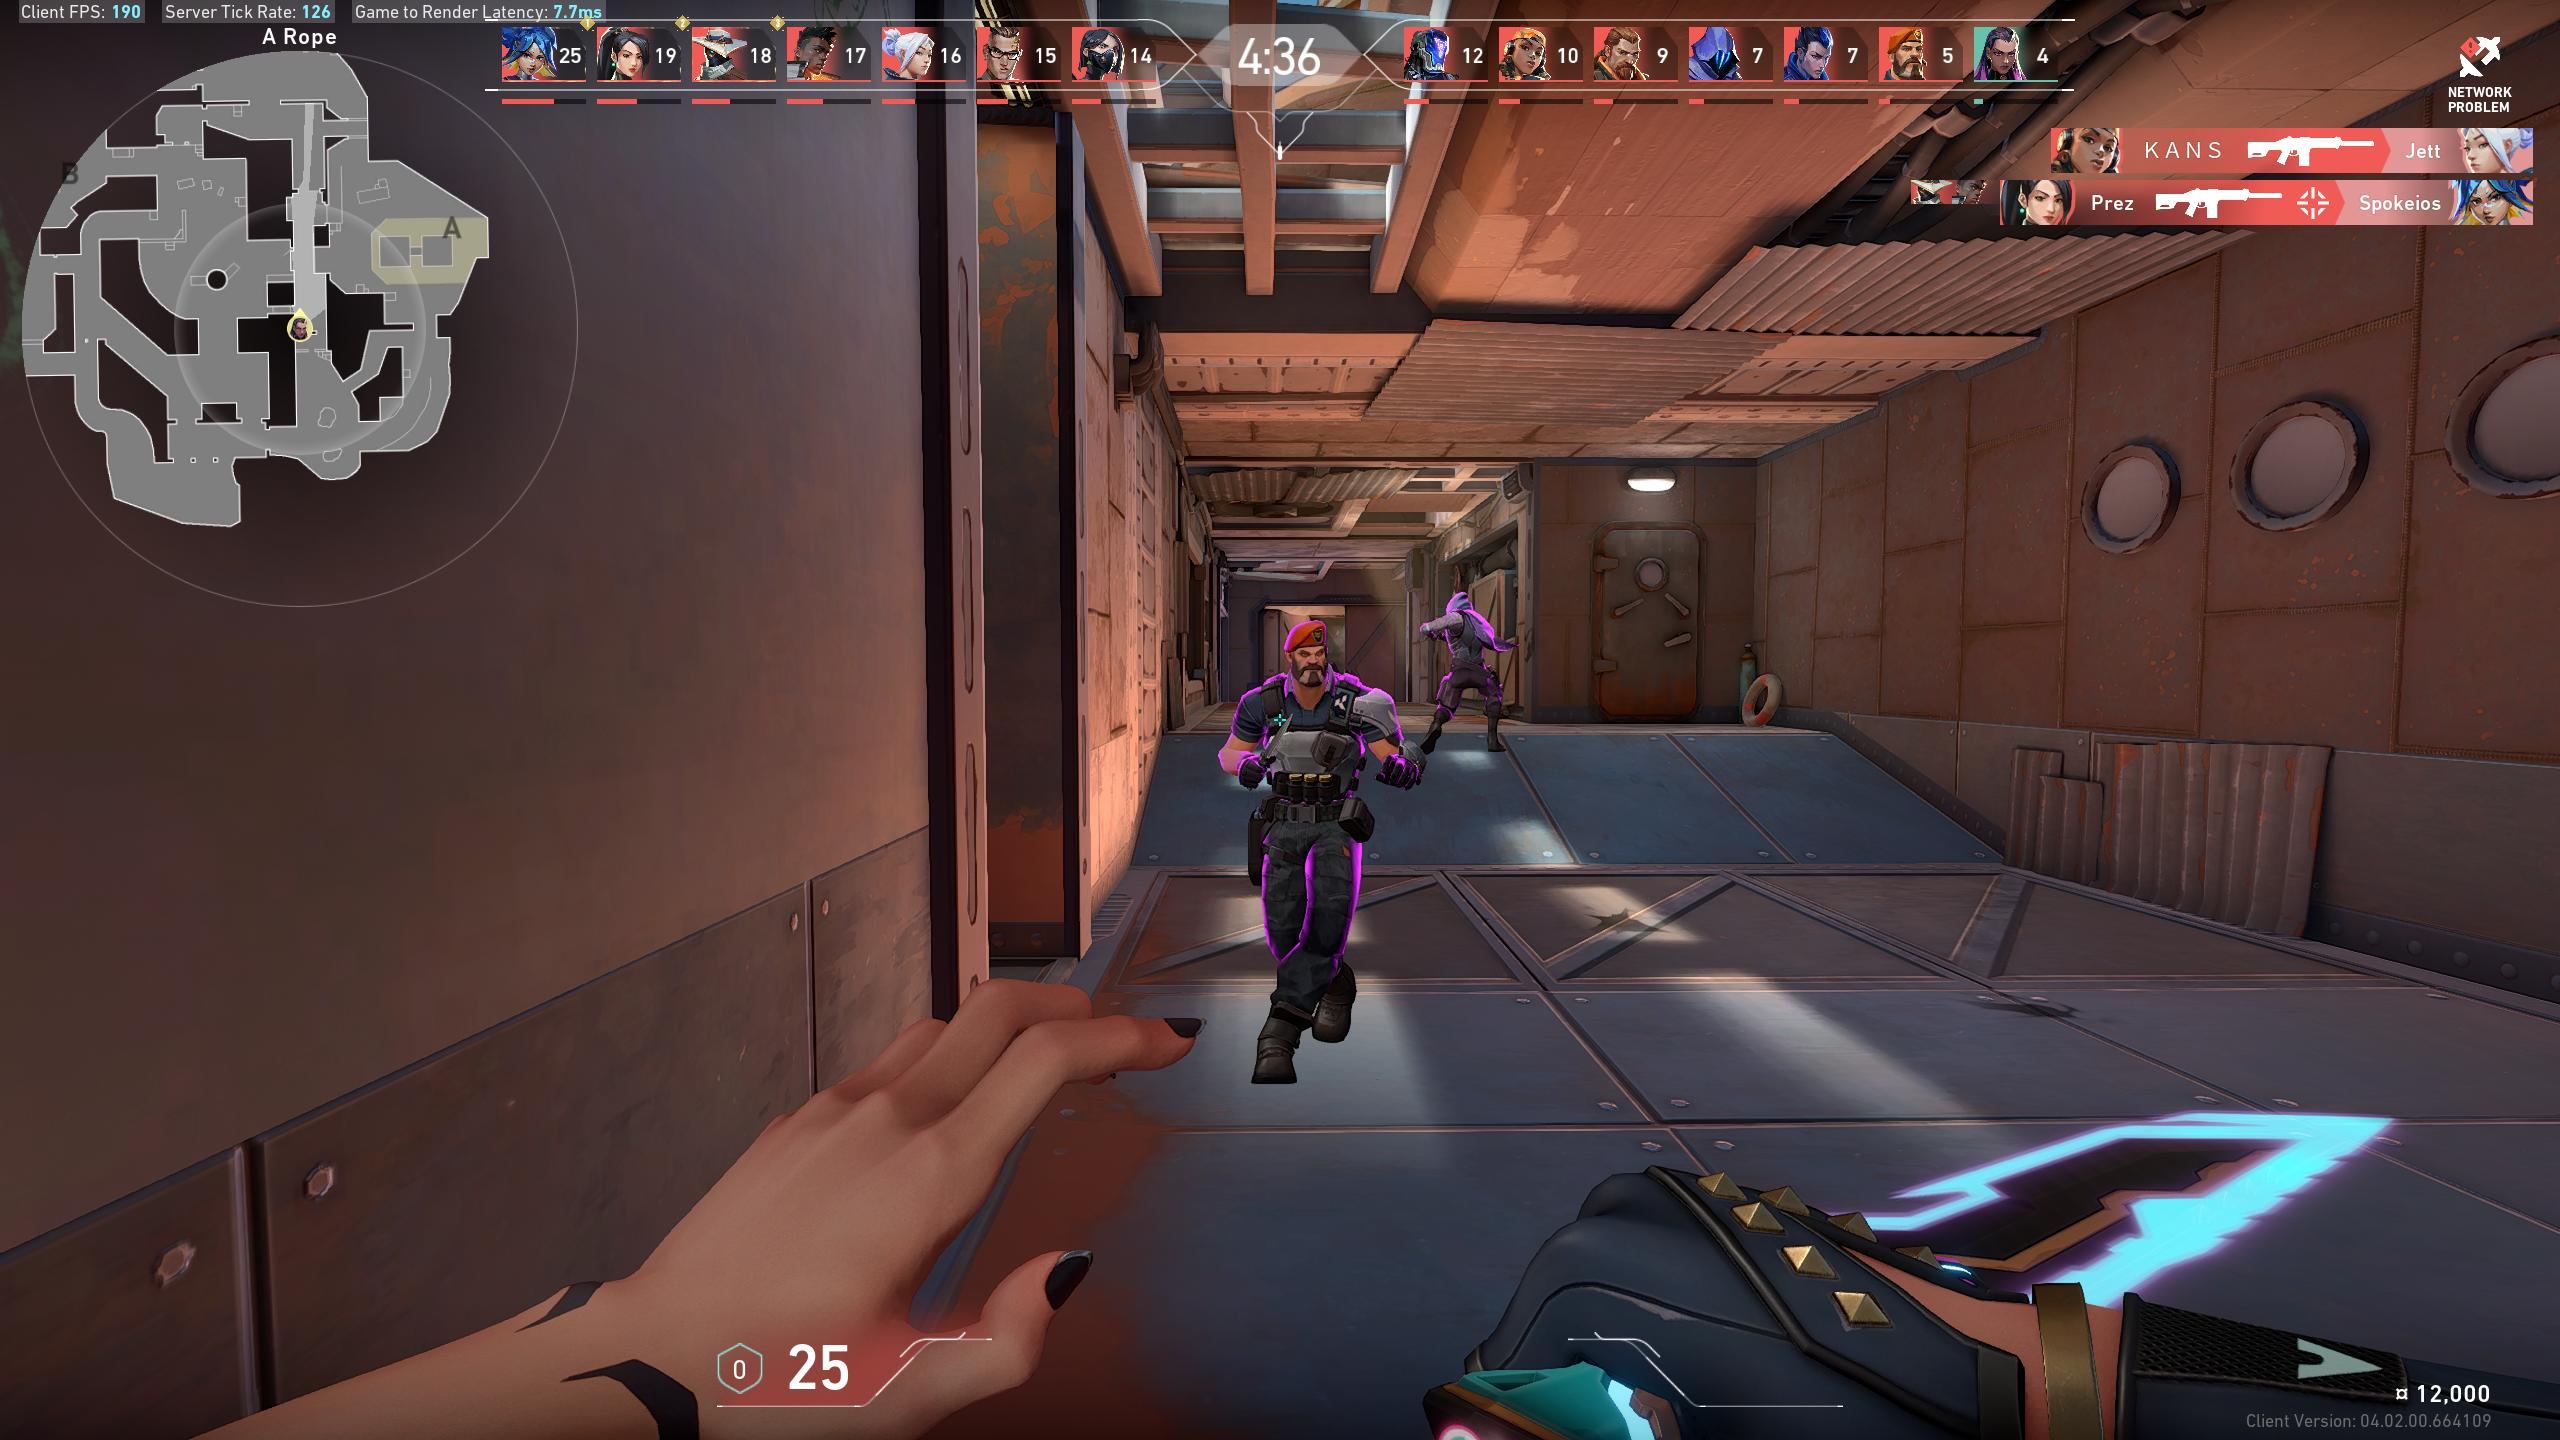enemyBody: (1271, 693, 1347, 781), (1456, 615, 1480, 656)
enemyHead: (1296, 638, 1322, 680), (1452, 598, 1465, 612)
